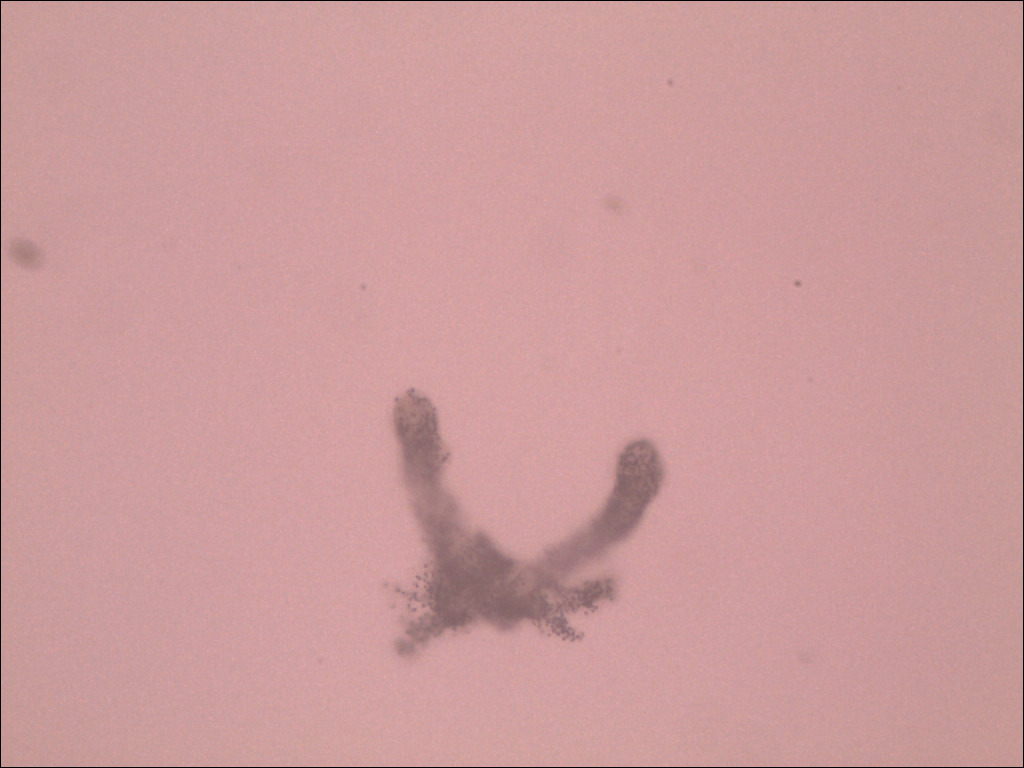amoeba: (374, 381, 675, 673)
